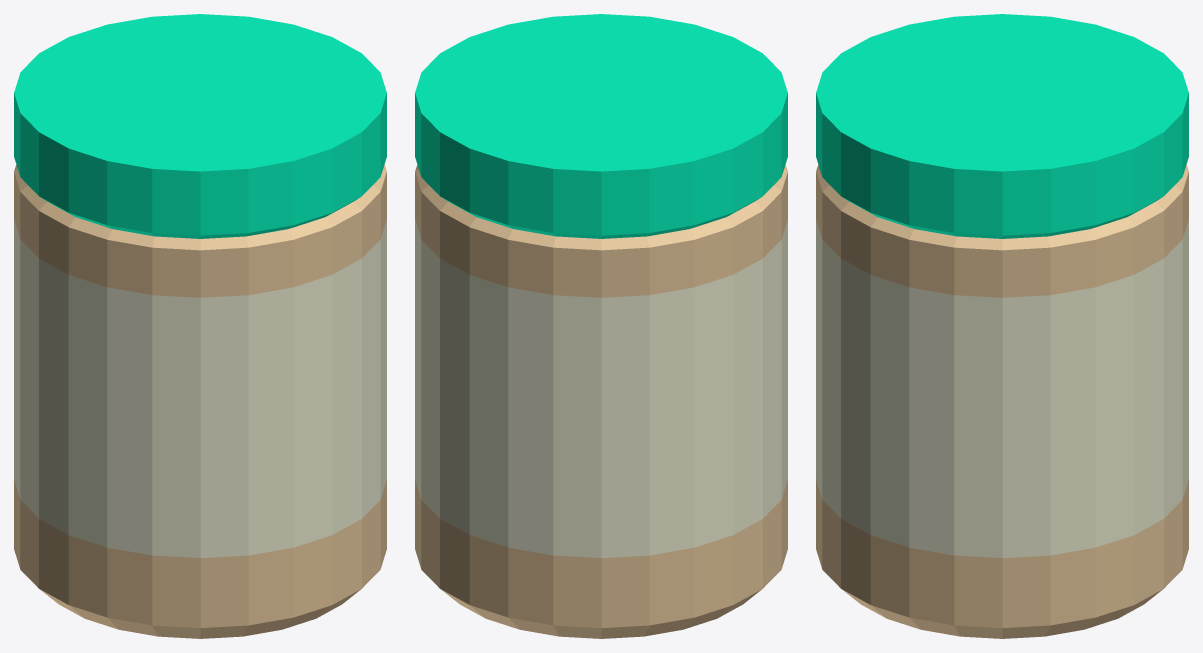
The model's file is Peanut Butter.fbx.
3 views of the same model, side by side, from view 1: azimuth 30°, elevation 25°; view 2: azimuth 150°, elevation 25°; view 3: azimuth 270°, elevation 25° (orthographic).
Parts seen in each view (by area): view 1: Peanut Butter; view 2: Peanut Butter; view 3: Peanut Butter.
Boxes of the visible parts, x1,y1,x2,y2 form: Peanut Butter: [14, 14, 386, 638]; Peanut Butter: [415, 14, 787, 638]; Peanut Butter: [816, 14, 1188, 638].
Size of the model in its own units: 0.108 by 0.1524 by 0.108.
